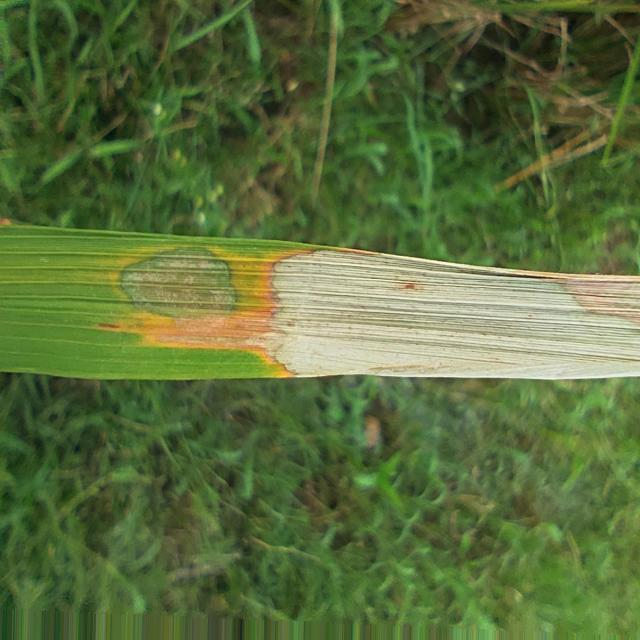Brown_Spot: (96, 322, 120, 331)
Rice False Smut: (265, 250, 640, 379), (121, 250, 236, 317)
